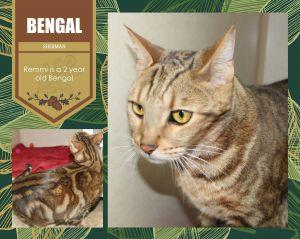bengal: (114, 17, 249, 176)
